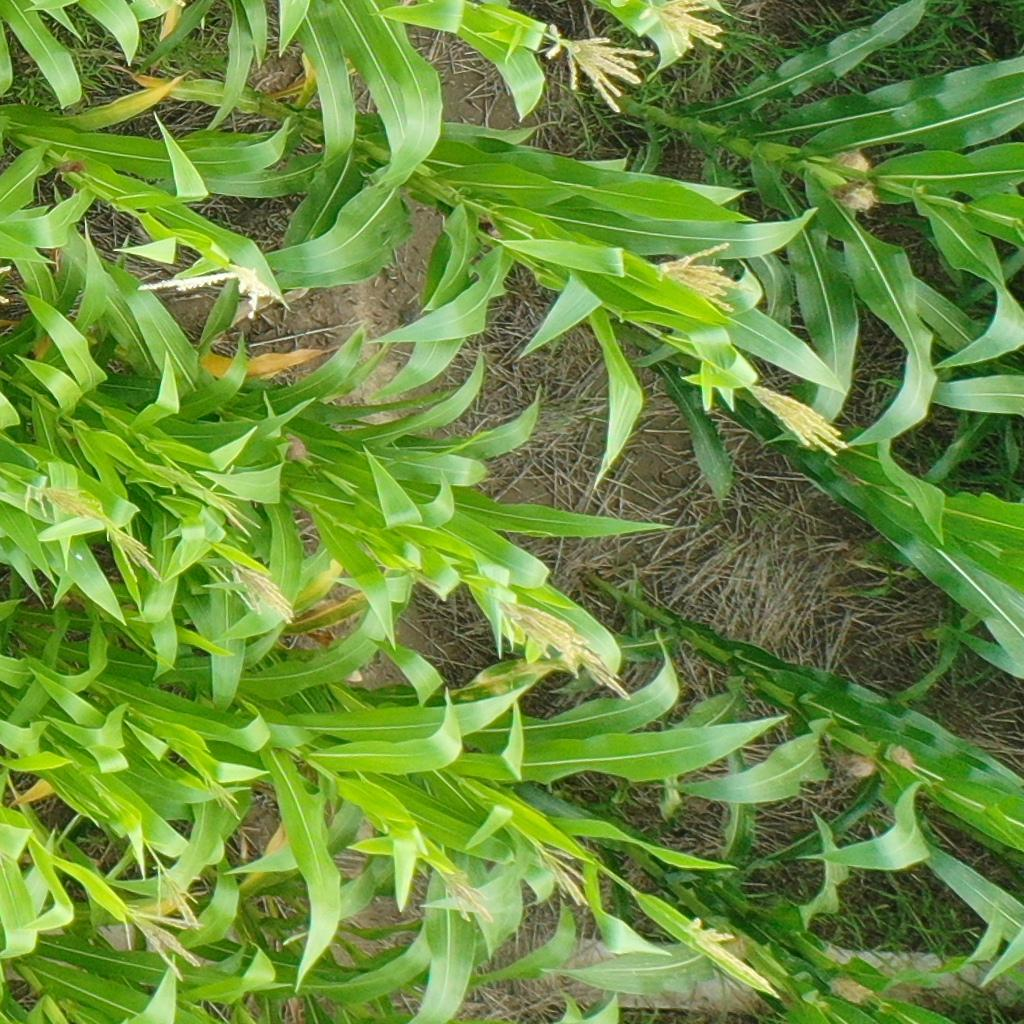Tassel: (540, 22, 653, 113), (674, 918, 780, 999), (738, 380, 847, 458), (130, 267, 286, 320), (652, 237, 746, 316), (494, 596, 588, 655), (124, 910, 203, 979), (556, 634, 635, 702), (638, 1, 727, 57), (194, 461, 261, 533), (527, 836, 595, 906), (227, 559, 298, 625), (22, 479, 105, 527), (148, 862, 207, 929), (434, 868, 497, 927), (105, 526, 161, 580), (200, 769, 245, 819)
